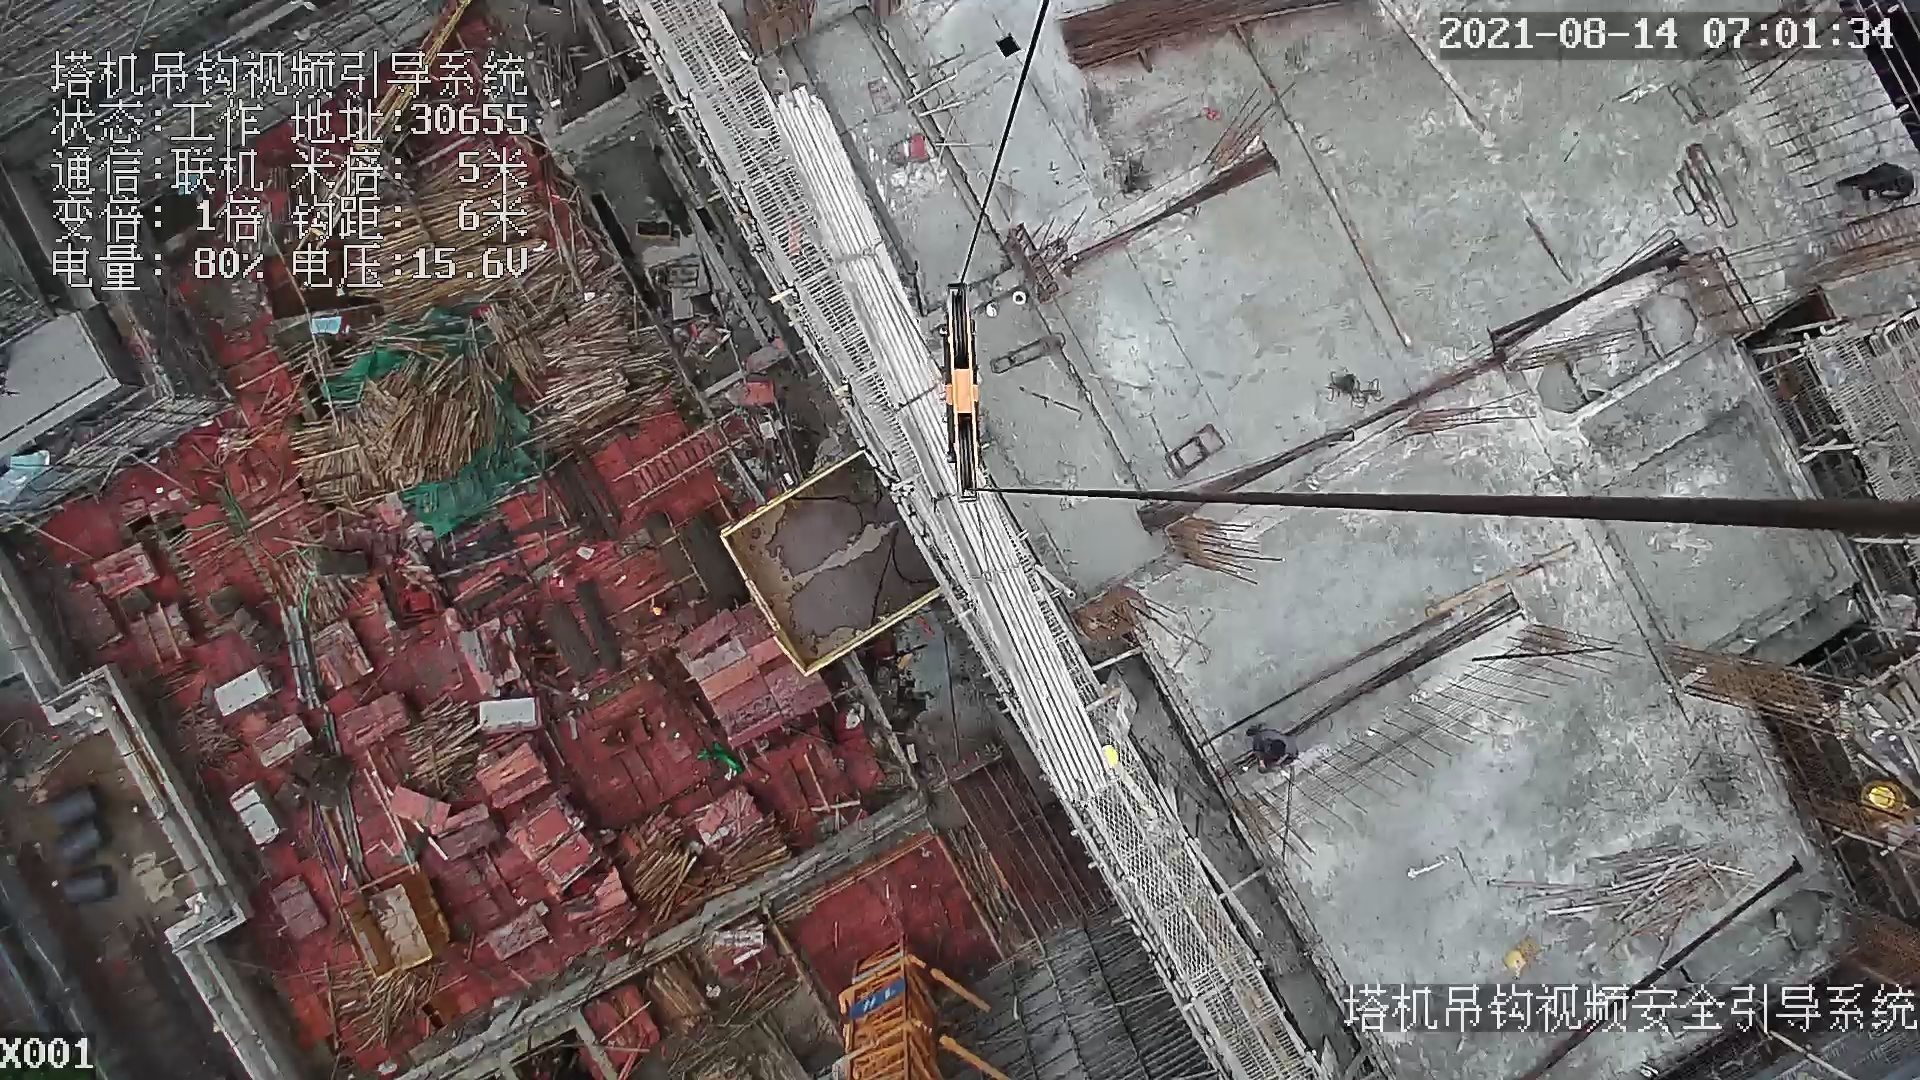hook: (933, 282, 991, 508)
person: (1833, 160, 1913, 214), (1238, 722, 1299, 776)
